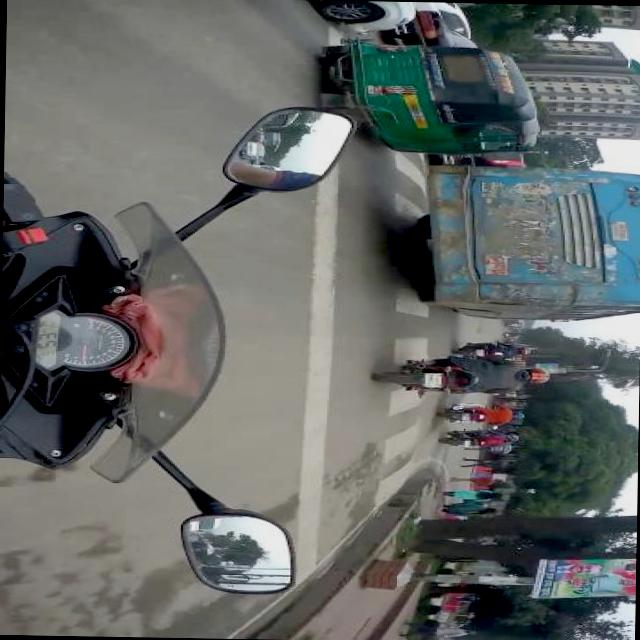bus: (404, 161, 640, 326)
motorcycle: (296, 34, 546, 160), (365, 349, 554, 400), (436, 428, 494, 451), (432, 405, 490, 427)
